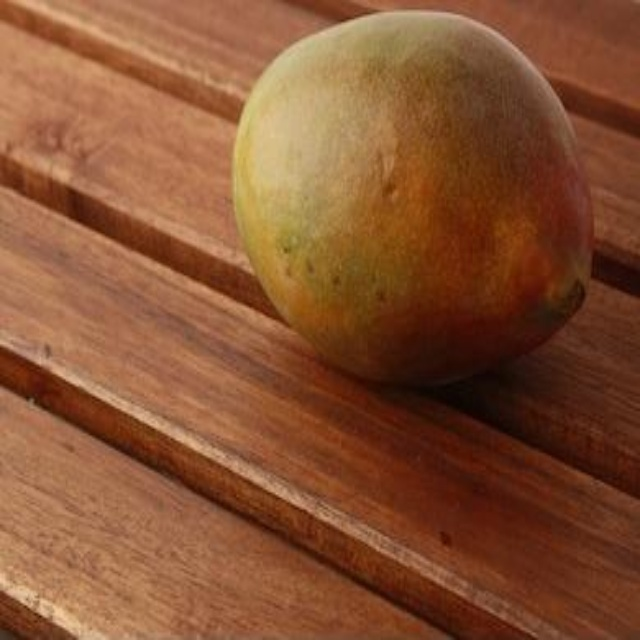mango: (229, 15, 593, 380)
